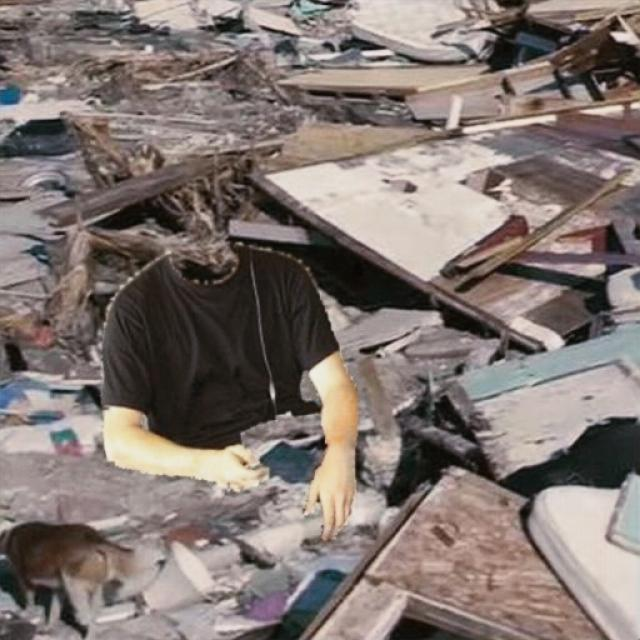Person in Rubble: (100, 242, 356, 540)
